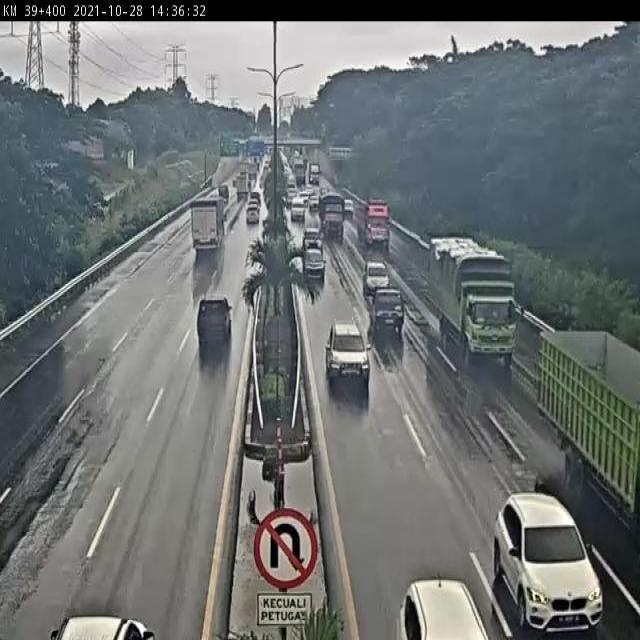big truck: (429, 235, 517, 368), (358, 198, 394, 250), (188, 200, 223, 253), (317, 192, 343, 236)
car: (494, 492, 605, 635), (325, 320, 371, 383), (192, 296, 235, 341), (371, 284, 406, 331), (359, 256, 387, 289), (300, 222, 322, 255), (303, 245, 325, 276), (244, 205, 260, 227)
